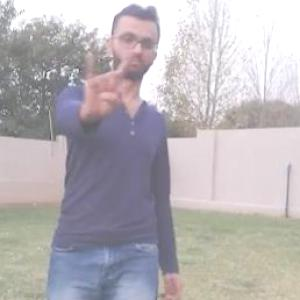takeoff-hand: (84, 40, 150, 126)
